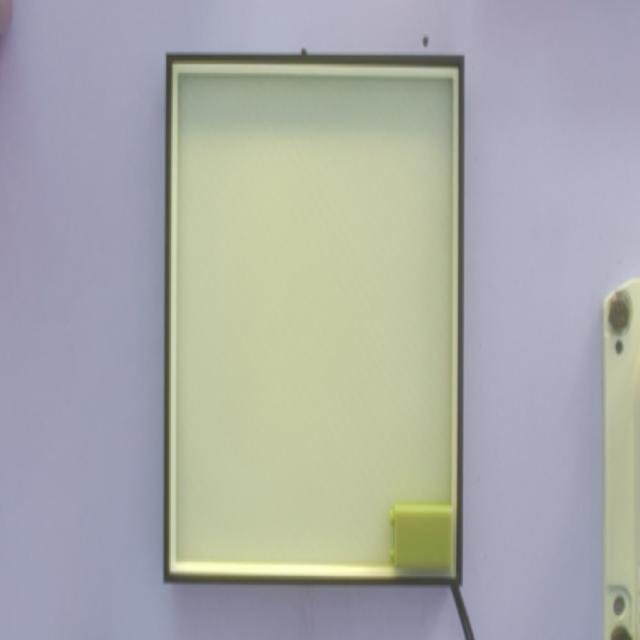bateria: (389, 504, 452, 571)
mesa: (163, 54, 464, 587)
